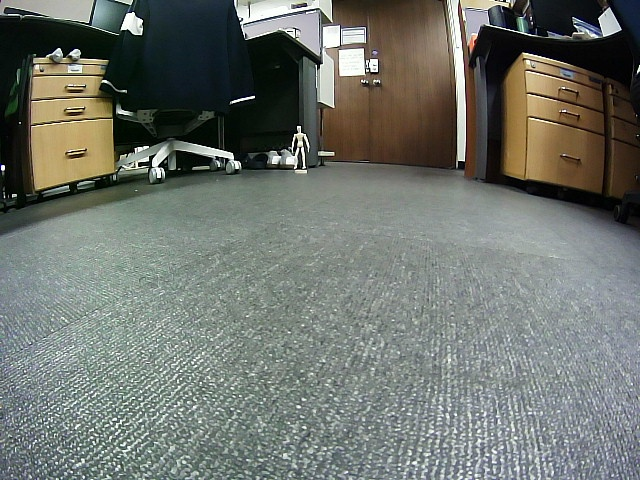person: (292, 126, 310, 170)
